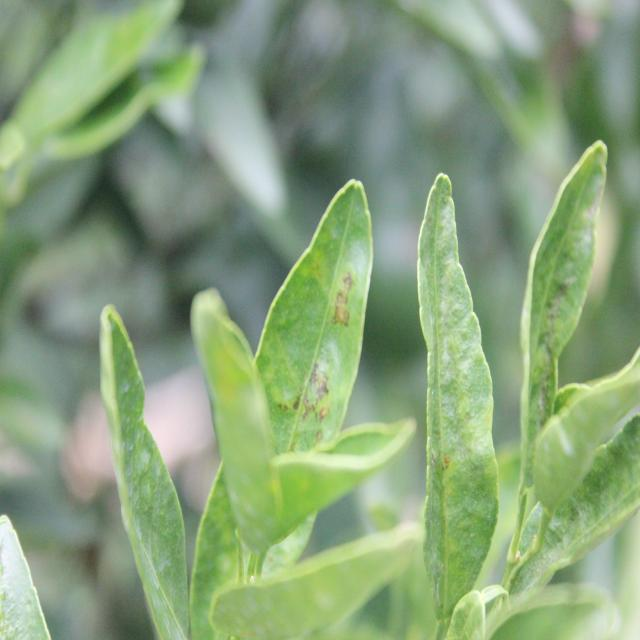canker: (279, 252, 363, 450), (523, 260, 583, 418)
